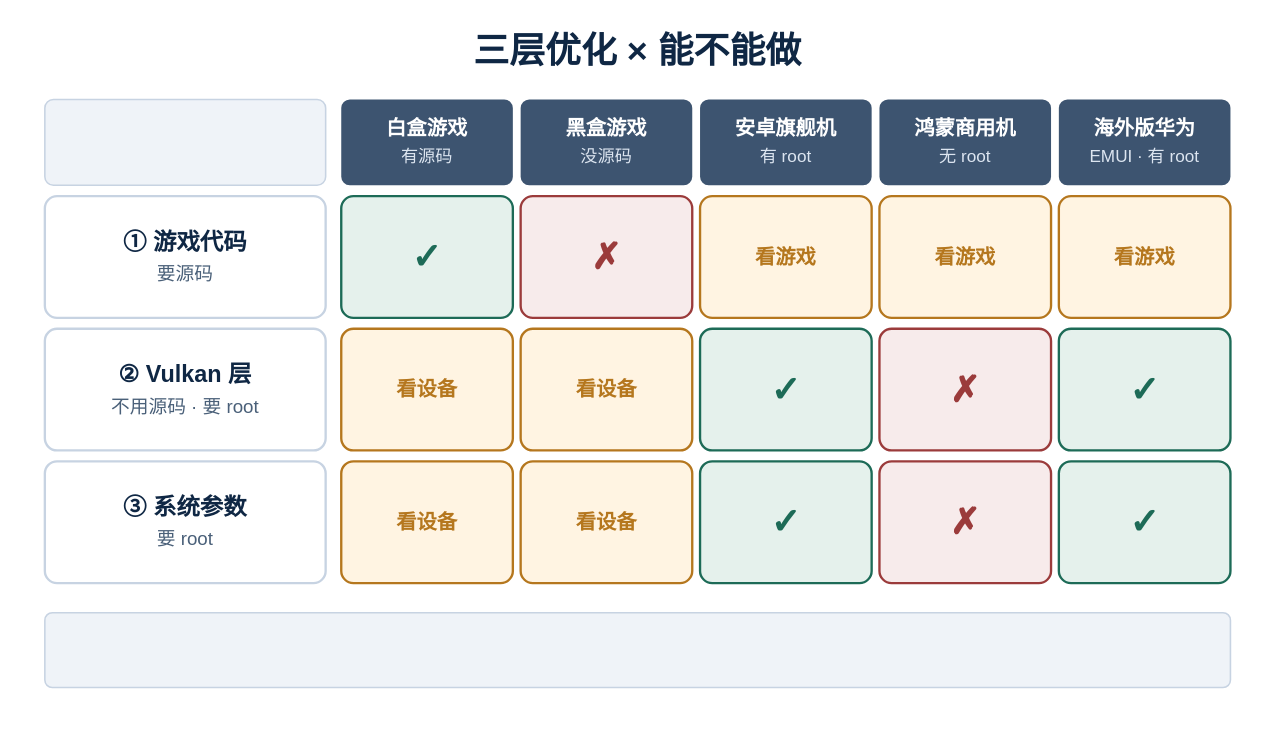
Image size: 1275x729. Some labels were removed from this diagram. Each missing label, with the box of its shape:
① 看有没有游戏源码 · ② ③ 看手机能不能 root 鸿蒙商用机没有 root，只跑测量、做对照: (44, 612, 1231, 688)
优化层 ↓ 对象 →: (44, 98, 326, 186)
